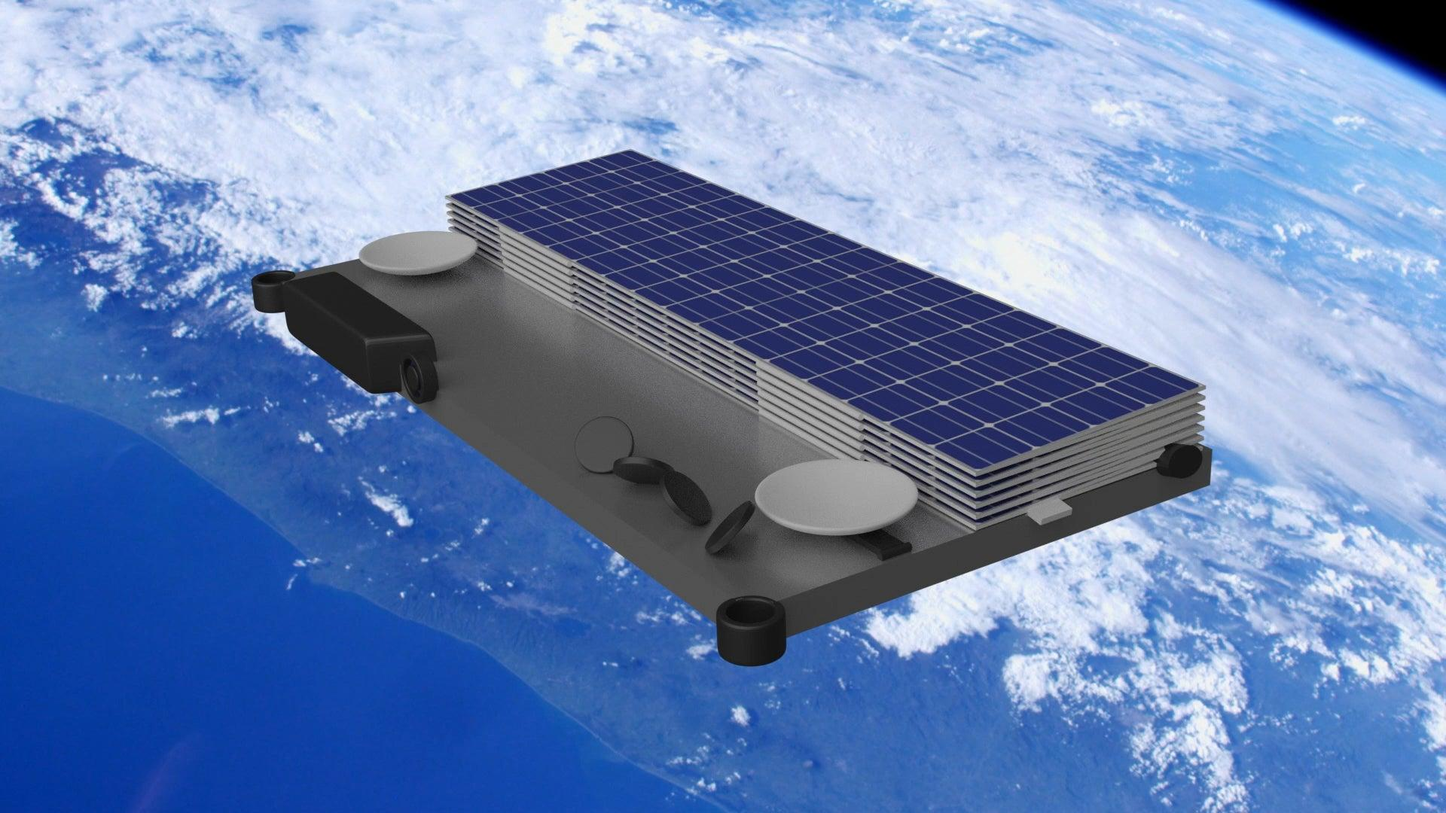antenna: (754, 457, 923, 537), (354, 225, 480, 279)
body: (248, 257, 1216, 668)
solar: (444, 147, 1210, 476)
